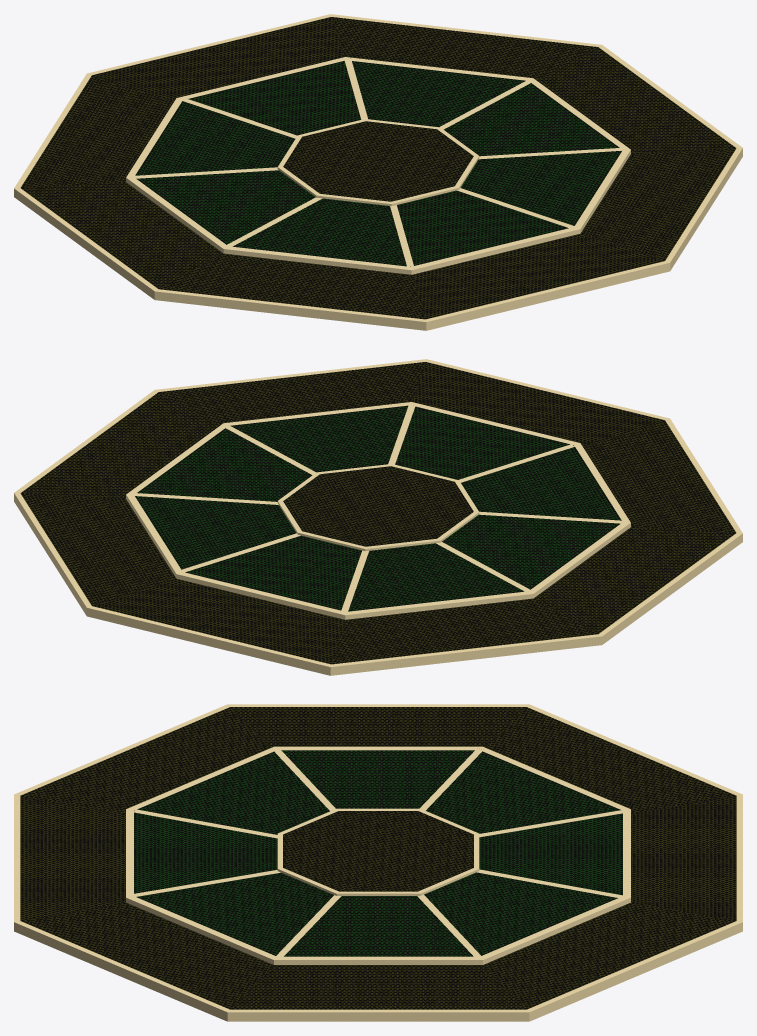
Rendered from plaza.gltf.
The picture shows the model from 3 angles, top to bottom: view 1: azimuth 30°, elevation 25°; view 2: azimuth 150°, elevation 25°; view 3: azimuth 270°, elevation 25°; orthographic projection. The views are drawn at different scales.
Parts seen in each view (by area): view 1: Cylinder_Brush7_StaticMesh_StaticMeshComponent0; view 2: Cylinder_Brush7_StaticMesh_StaticMeshComponent0; view 3: Cylinder_Brush7_StaticMesh_StaticMeshComponent0.
Part boxes in pixels (<box>): Cylinder_Brush7_StaticMesh_StaticMeshComponent0: <box>14,14,742,330</box>; Cylinder_Brush7_StaticMesh_StaticMeshComponent0: <box>14,359,742,675</box>; Cylinder_Brush7_StaticMesh_StaticMeshComponent0: <box>14,704,742,1021</box>.
Size of the model in its own units: 31.45 by 0.7841 by 31.45.
Materials: 4 (4 with a texture image).
